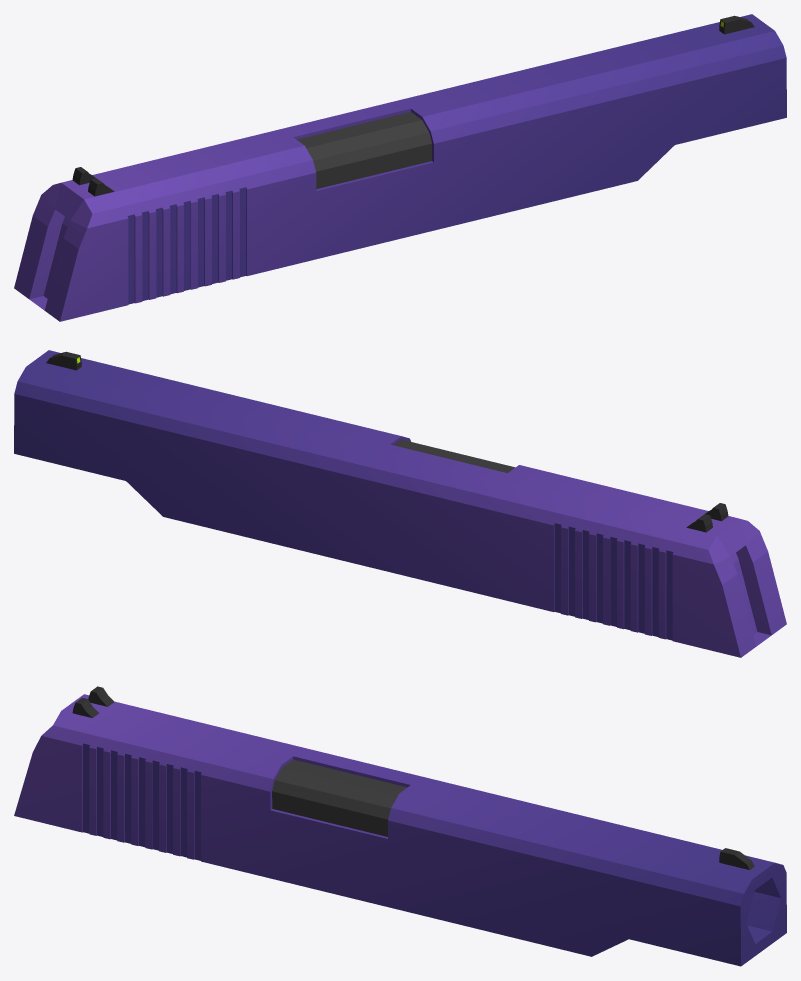
File: Pistol2_04_2.fbx
3 renders of one model, top to bottom at view 1: azimuth 30°, elevation 25°; view 2: azimuth 150°, elevation 25°; view 3: azimuth 330°, elevation 25°, orthographic.
Visible parts, largest first — view 1: Pistol2_04_2; view 2: Pistol2_04_2; view 3: Pistol2_04_2.
Boxes of the visible parts, x1,y1,x2,y2 form: Pistol2_04_2: [14, 14, 786, 321]; Pistol2_04_2: [14, 350, 786, 657]; Pistol2_04_2: [14, 686, 786, 966].
Size of the model in its own units: 0.225 by 0.0345 by 0.0246.
